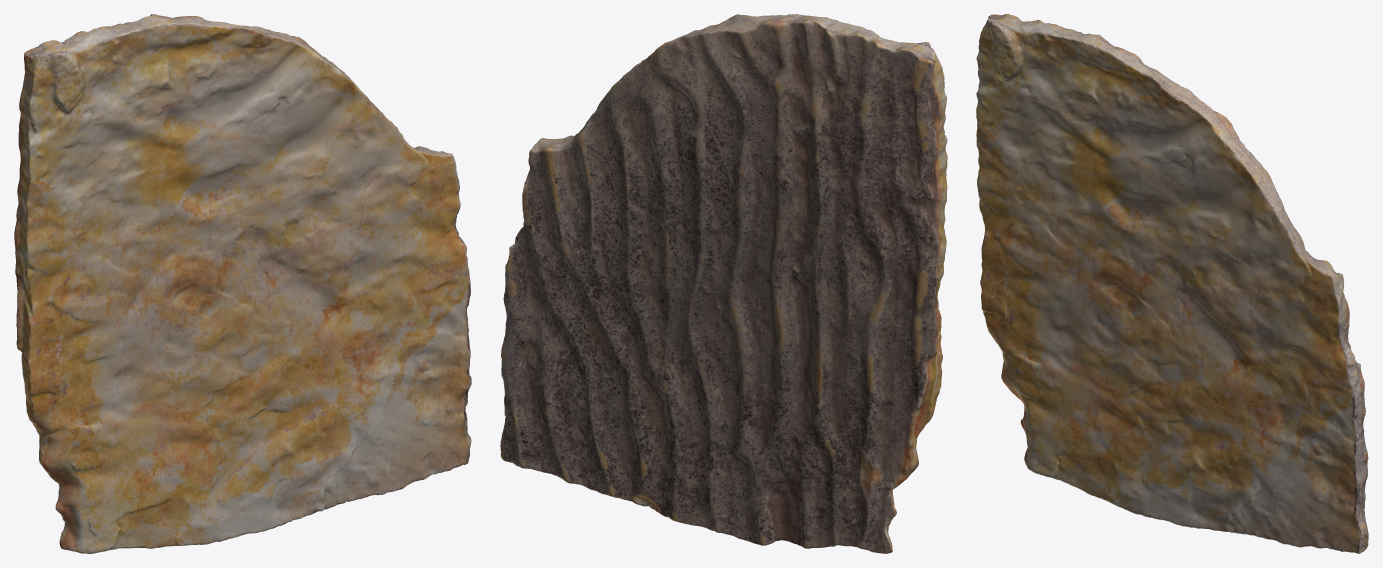
3 views of the same model, side by side, from view 1: azimuth 30°, elevation 25°; view 2: azimuth 150°, elevation 25°; view 3: azimuth 330°, elevation 25° (orthographic). The views are drawn at different scales.
Visible parts, largest first — view 1: Metashape to blender; view 2: Metashape to blender; view 3: Metashape to blender.
Part boxes in pixels (left/top/right/bottom): Metashape to blender: left=14, top=14, right=471, bottom=553; Metashape to blender: left=500, top=14, right=947, bottom=553; Metashape to blender: left=976, top=14, right=1368, bottom=553.
Size of the model in its own units: 239 by 274 by 21.34.
2 materials, 1 textured.
